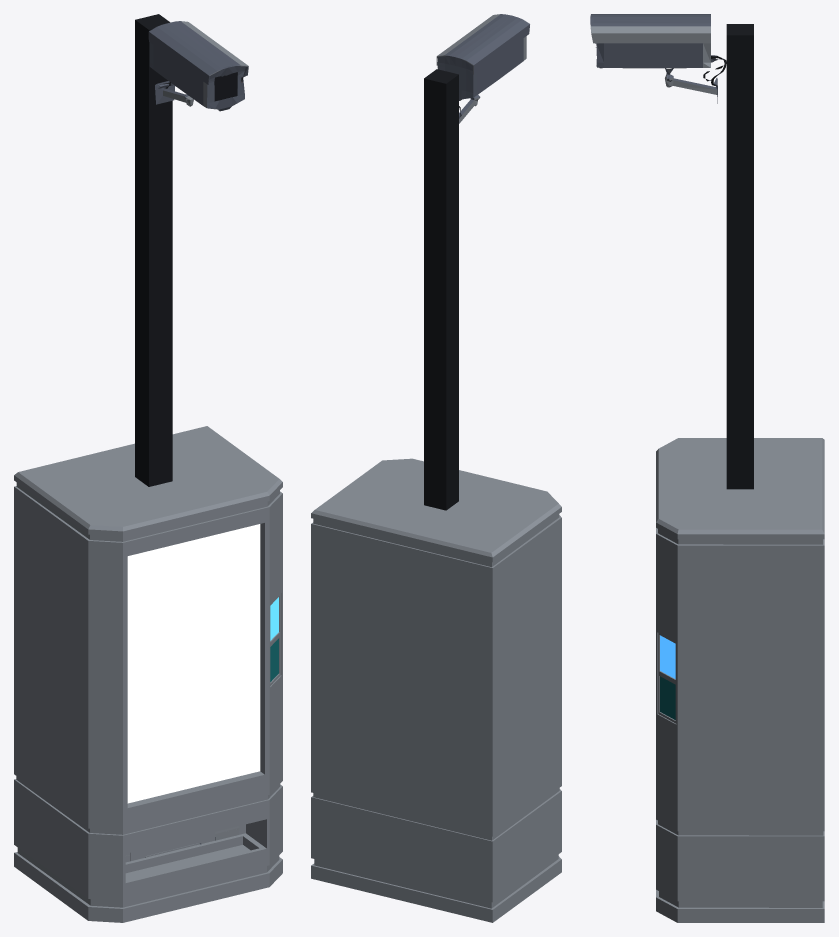
File: street-props.glb
3 views of the same model, side by side, from view 1: azimuth 30°, elevation 25°; view 2: azimuth 150°, elevation 25°; view 3: azimuth 270°, elevation 25° (orthographic). The views are drawn at different scales.
Parts seen in each view (by area): view 1: st-vending, st-cctv; view 2: st-vending, st-cctv; view 3: st-vending, st-cctv.
Boxes of the visible parts, box(x1,y1,x2,y2) form: st-vending: box(14, 426, 282, 922); st-cctv: box(135, 14, 248, 486); st-vending: box(311, 458, 561, 922); st-cctv: box(424, 14, 529, 510); st-vending: box(656, 438, 824, 922); st-cctv: box(590, 14, 753, 489).
Size of the model in its own units: 0.98 by 4.25 by 1.03.
Materials: 1 (1 with a texture image).
